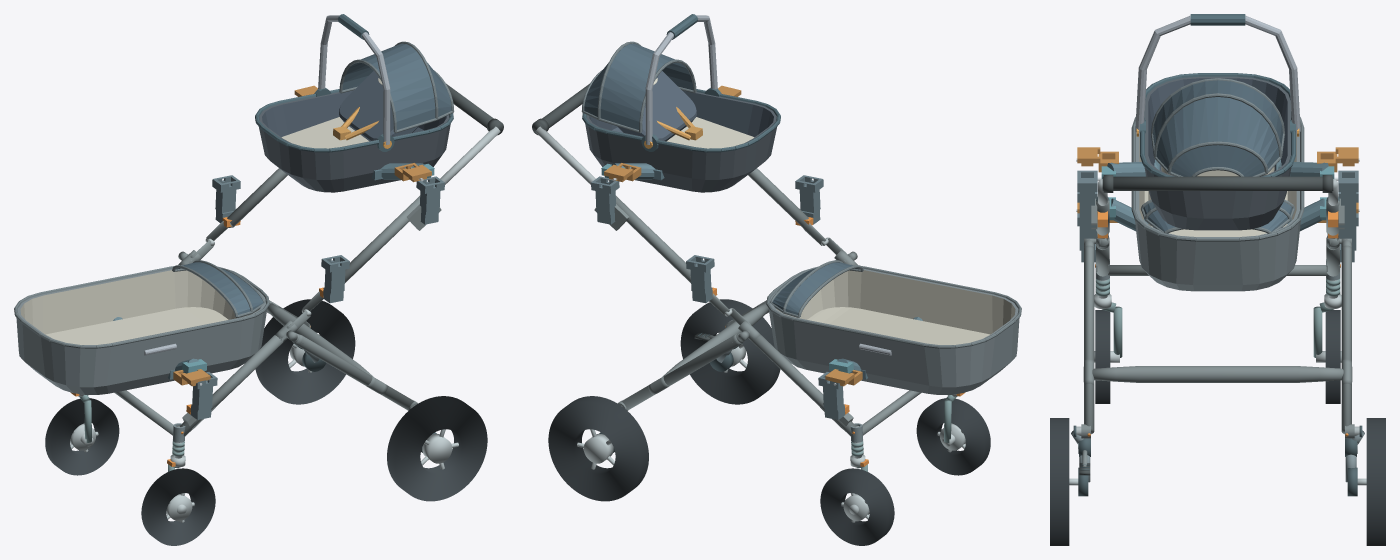
Rendered from D07_w650_state1_wheel_M.glb.
3 views of the same model, side by side, from view 1: azimuth 30°, elevation 25°; view 2: azimuth 150°, elevation 25°; view 3: azimuth 270°, elevation 25° (orthographic). The views are drawn at different scales.
Parts seen in each view (by area): view 1: D07_Lower, D07_Upper, RL_tire.008, RR_tire.008, FL_tire.008, FR_tire.008, V46_rear_leg_-1.009, main_lower_-1.009, main_upper_-1.009, Universal_Cabin_Receiver_M_-1, Universal_Cabin_Receiver_H_-1, V46_rearbar.009 (+7 smaller); view 2: D07_Lower, D07_Upper, RR_tire.008, RL_tire.008, FR_tire.008, FL_tire.008, V46_rear_leg_1.009, main_lower_1.009, main_upper_1.009, Universal_Cabin_Receiver_M_1, V46_rearbar.009, Universal_Cabin_Receiver_H_1 (+7 smaller); view 3: D07_Upper, D07_Lower, V46_rearbar.009, round_handle.008, RL_tire.008, RR_tire.008, V46_rear_leg_1.009, V46_rear_leg_-1.009, D07_Upper_Mount_H, FL_tire.008, FR_tire.008, D07_Lower_Mount_L (+7 smaller).
Boxes of the visible parts, box(x1,y1,x2,y2) form: D07_Lower: box(14, 260, 269, 394); D07_Upper: box(255, 14, 454, 192); RL_tire.008: box(387, 396, 487, 501); RR_tire.008: box(255, 299, 355, 404); FL_tire.008: box(141, 468, 215, 545); FR_tire.008: box(45, 398, 119, 475); V46_rear_leg_-1.009: box(294, 334, 414, 410); main_lower_-1.009: box(179, 335, 286, 436); main_upper_-1.009: box(323, 195, 420, 288); Universal_Cabin_Receiver_M_-1: box(321, 255, 349, 303); Universal_Cabin_Receiver_H_-1: box(416, 176, 444, 224); V46_rearbar.009: box(267, 303, 373, 376); D07_Lower: box(766, 260, 1021, 394); D07_Upper: box(581, 14, 780, 192); RR_tire.008: box(548, 396, 648, 501); RL_tire.008: box(680, 299, 780, 404); FR_tire.008: box(820, 468, 894, 545); FL_tire.008: box(916, 398, 990, 475); V46_rear_leg_1.009: box(621, 334, 741, 410); main_lower_1.009: box(749, 335, 856, 436); main_upper_1.009: box(615, 195, 712, 288); Universal_Cabin_Receiver_M_1: box(686, 255, 714, 303); V46_rearbar.009: box(662, 303, 768, 376); Universal_Cabin_Receiver_H_1: box(591, 176, 619, 224); D07_Upper: box(1135, 14, 1300, 230); D07_Lower: box(1131, 117, 1304, 291); V46_rearbar.009: box(1092, 366, 1343, 382); round_handle.008: box(1102, 176, 1333, 190); RL_tire.008: box(1050, 418, 1069, 545); RR_tire.008: box(1366, 418, 1385, 545); V46_rear_leg_1.009: box(1341, 245, 1351, 434); V46_rear_leg_-1.009: box(1084, 245, 1094, 434); D07_Upper_Mount_H: box(1097, 159, 1338, 180); FL_tire.008: box(1095, 310, 1110, 403); FR_tire.008: box(1325, 310, 1340, 403); D07_Lower_Mount_L: box(1108, 197, 1327, 231).
Bounding box in the file's own units: 1.38 × 1.33 × 0.7871.
